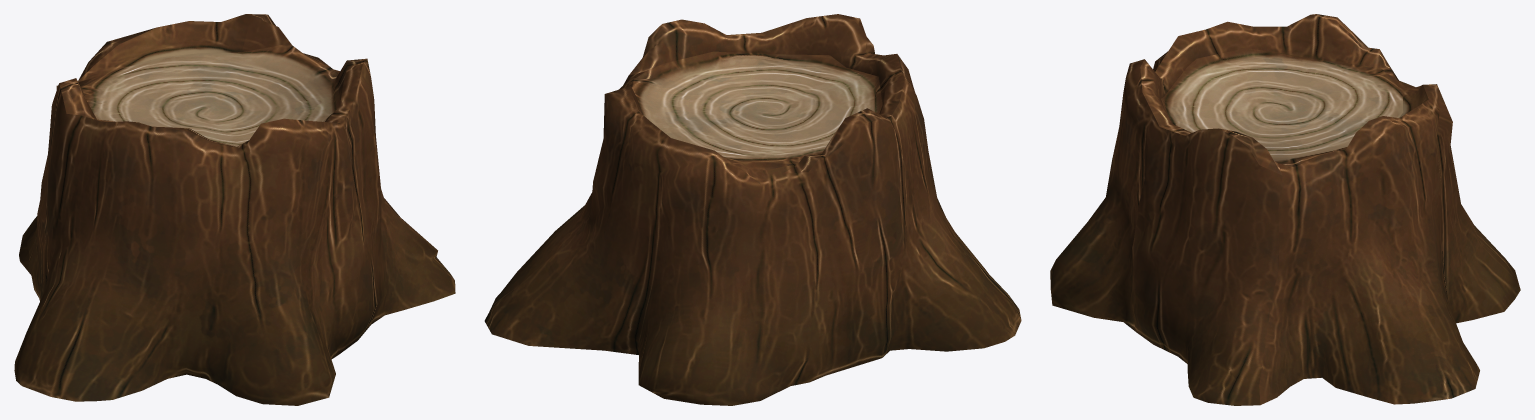
The model's file is TRUNK1.FBX.
The picture shows the model from 3 angles, left to right: view 1: azimuth 30°, elevation 25°; view 2: azimuth 150°, elevation 25°; view 3: azimuth 270°, elevation 25°; orthographic projection. The views are drawn at different scales.
Parts seen in each view (by area): view 1: trunk1_LOD0; view 2: trunk1_LOD0; view 3: trunk1_LOD0.
Part boxes in pixels (left/top/right/bottom): trunk1_LOD0: left=14, top=14, right=455, bottom=405; trunk1_LOD0: left=484, top=14, right=1021, bottom=405; trunk1_LOD0: left=1050, top=14, right=1520, bottom=405.
Size of what is drawn, in the model's own units: 249 by 135 by 239.
